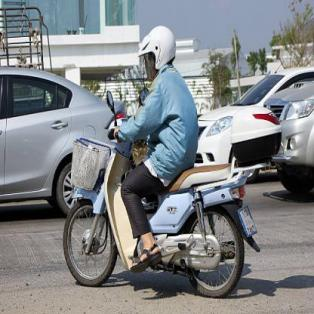Motocicleta: (68, 114, 248, 297)
